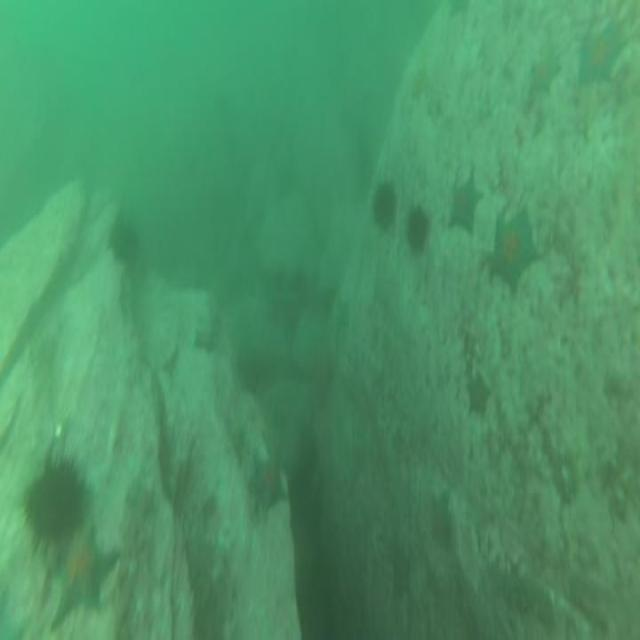echinus: (20, 455, 89, 555), (105, 218, 142, 277), (369, 177, 401, 235), (404, 198, 432, 260)
starfish: (49, 526, 120, 626), (486, 209, 540, 297), (575, 15, 628, 91), (246, 444, 291, 522), (423, 484, 461, 561), (445, 164, 480, 234), (385, 539, 414, 604), (527, 43, 562, 96), (462, 367, 492, 422)
